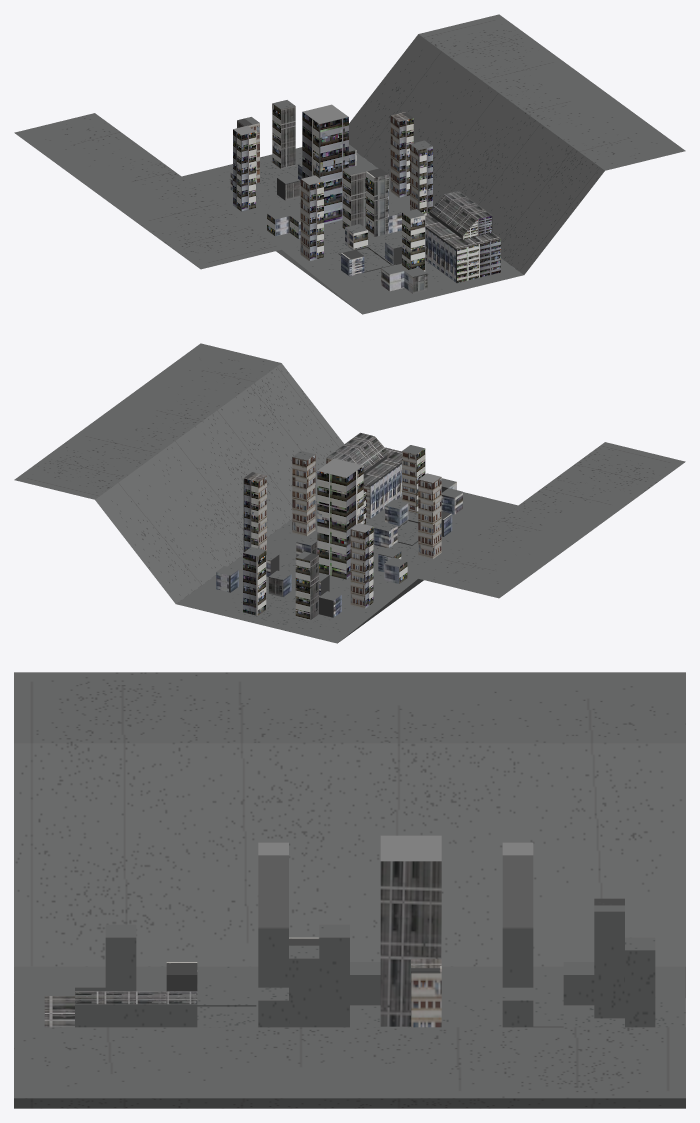
File: TokyoBlock.fbx
3 views of the same model, one above another, from view 1: azimuth 30°, elevation 25°; view 2: azimuth 150°, elevation 25°; view 3: azimuth 270°, elevation 25° (orthographic). The views are drawn at different scales.
Visible parts, largest first — view 1: Plane.001; view 2: Plane.001; view 3: Plane.001.
Part boxes in pixels (x1=…): Plane.001: x1=14, y1=14, x2=685, y2=314; Plane.001: x1=14, y1=343, x2=685, y2=643; Plane.001: x1=14, y1=672, x2=685, y2=1108.
Bounding box in the file's own units: 600 × 120 × 400.
1 material, 1 textured.
